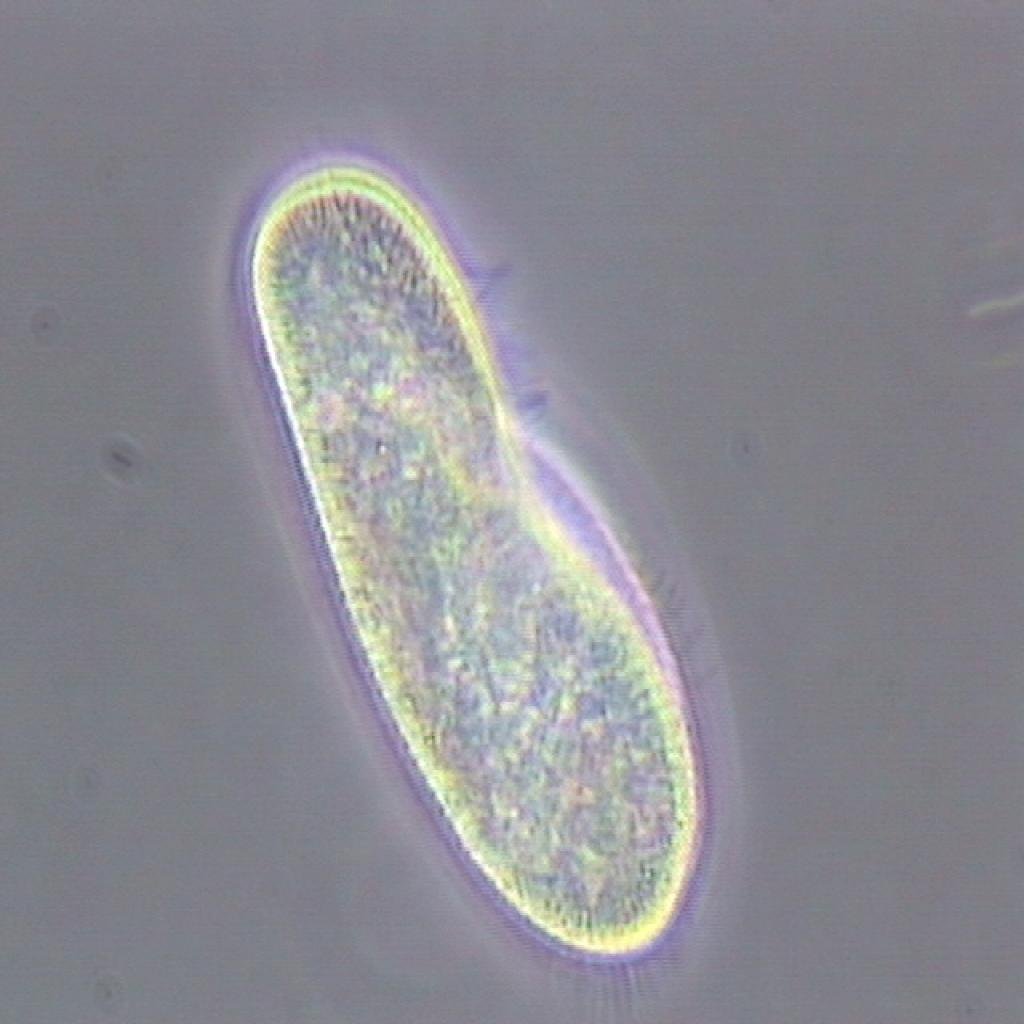Paramecium: (222, 133, 740, 974)
